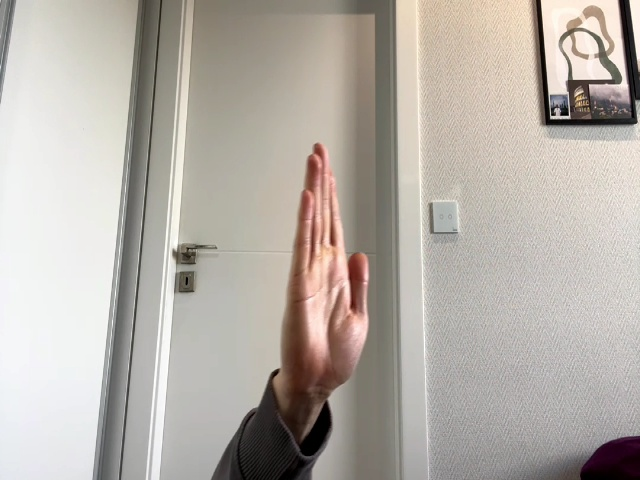SZ: (280, 143, 369, 388)
